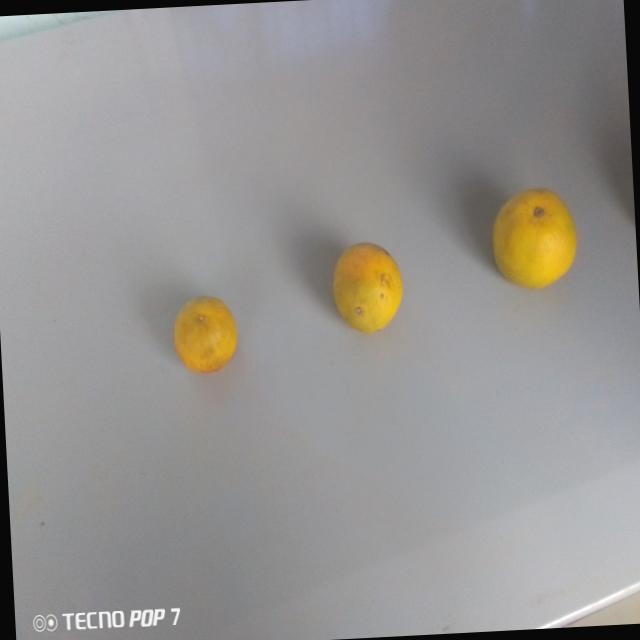agrume: (487, 182, 583, 298), (326, 230, 409, 342), (165, 287, 248, 381)
